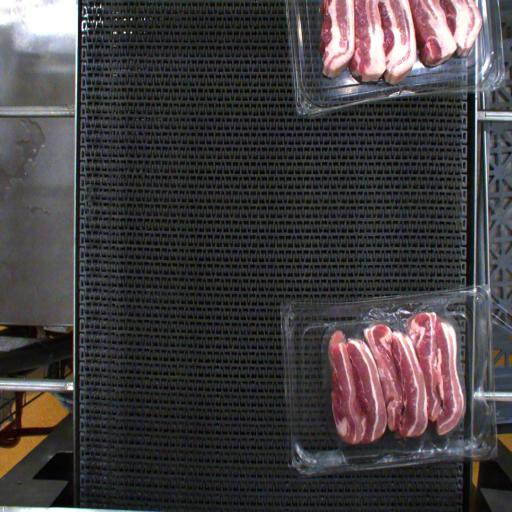unsealed: (321, 294, 478, 407)
